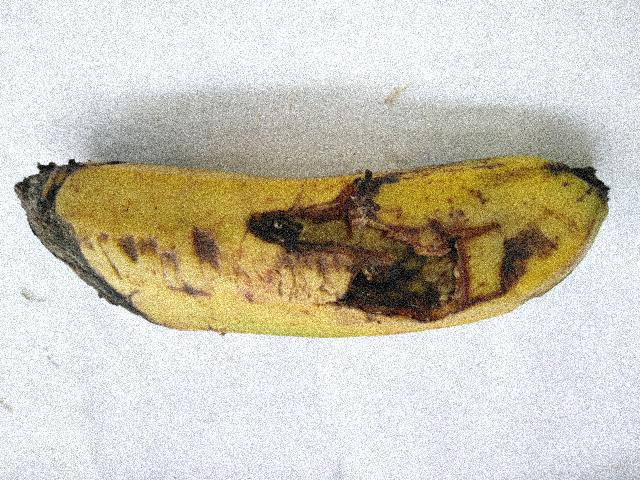rotten: (7, 118, 639, 385)
